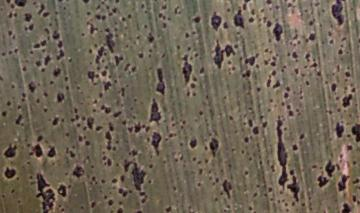tarspot: (274, 115, 288, 192), (32, 171, 57, 213), (210, 38, 237, 70), (129, 159, 147, 194), (329, 1, 348, 28), (287, 175, 303, 205), (179, 51, 193, 85), (147, 97, 163, 126), (154, 66, 168, 97), (147, 129, 162, 157), (219, 176, 236, 200), (207, 9, 223, 33), (104, 30, 119, 54), (271, 22, 285, 45), (242, 53, 261, 69), (333, 118, 346, 141), (207, 137, 221, 158), (232, 6, 244, 30), (93, 44, 106, 66), (102, 129, 114, 152), (70, 162, 86, 179), (335, 172, 349, 191), (3, 143, 19, 159), (2, 165, 18, 181), (338, 93, 354, 108), (351, 120, 360, 146), (83, 112, 94, 133), (315, 173, 328, 190), (324, 158, 336, 176), (32, 143, 45, 159), (112, 52, 125, 68), (12, 112, 25, 128), (56, 180, 67, 198), (339, 199, 353, 213), (186, 136, 199, 150), (98, 101, 111, 115), (288, 140, 300, 155), (26, 78, 37, 94), (86, 68, 97, 84), (53, 91, 66, 104), (190, 13, 203, 25), (143, 30, 155, 43), (240, 68, 251, 82), (12, 1, 31, 9), (260, 55, 270, 70), (50, 28, 62, 40), (101, 79, 112, 92), (133, 121, 144, 134), (95, 12, 108, 23), (46, 144, 56, 158), (103, 155, 113, 169), (308, 29, 317, 44), (22, 11, 34, 22), (297, 130, 308, 142), (335, 45, 345, 58), (52, 66, 62, 79), (290, 48, 300, 61), (240, 134, 251, 145), (104, 196, 115, 207), (81, 137, 92, 148), (328, 81, 338, 93), (50, 115, 60, 127), (259, 119, 271, 129), (129, 147, 139, 159), (31, 40, 41, 52), (282, 83, 294, 93), (26, 21, 36, 33), (33, 133, 46, 142), (68, 148, 77, 161), (196, 64, 205, 77), (43, 54, 51, 68), (342, 69, 353, 79), (253, 83, 263, 94), (246, 14, 256, 25), (113, 108, 122, 120), (273, 78, 281, 91), (41, 10, 51, 20), (55, 51, 65, 61), (129, 64, 139, 74), (308, 61, 319, 70), (40, 36, 47, 50), (135, 51, 147, 59), (163, 205, 175, 213), (33, 58, 42, 68), (99, 68, 108, 78), (281, 92, 291, 101), (61, 75, 70, 85), (3, 99, 13, 108), (182, 31, 192, 40), (115, 205, 126, 213), (287, 109, 295, 120), (269, 59, 277, 70), (123, 126, 134, 134), (293, 65, 301, 76), (110, 176, 119, 185), (251, 126, 259, 136), (246, 115, 253, 126), (1, 108, 7, 120), (56, 40, 63, 49)
